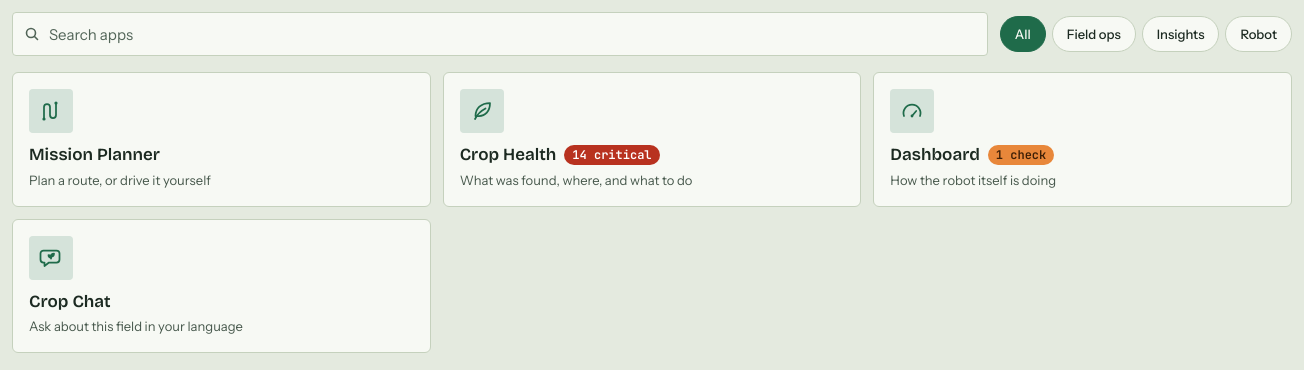
Test: AppBrowser › offers a way out when nothing matches
Type "tractor" into the search field labelled "Search apps" at [500, 34], box 12,12 -> 988,56
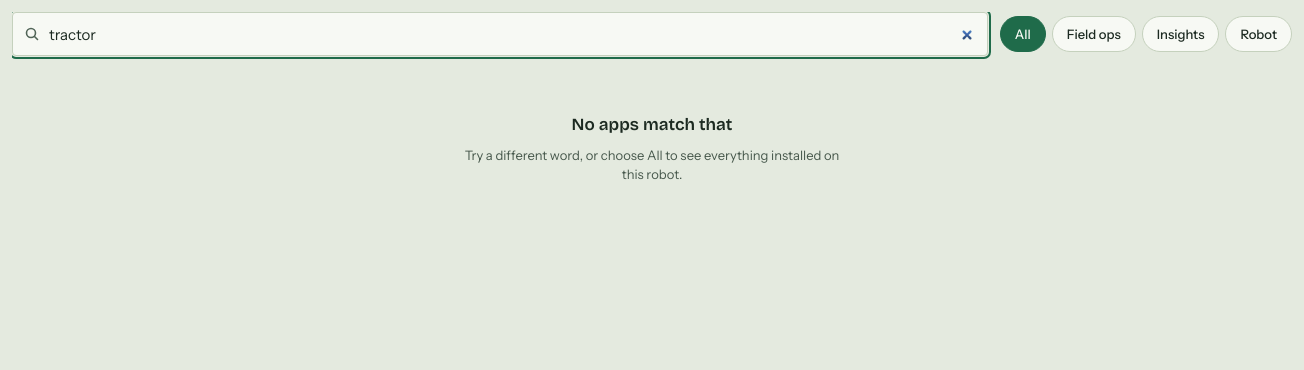
Check: the heading "No apps match that" is shown, box 572,112 -> 732,138
